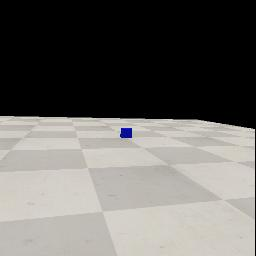box: (120, 128, 132, 138)
